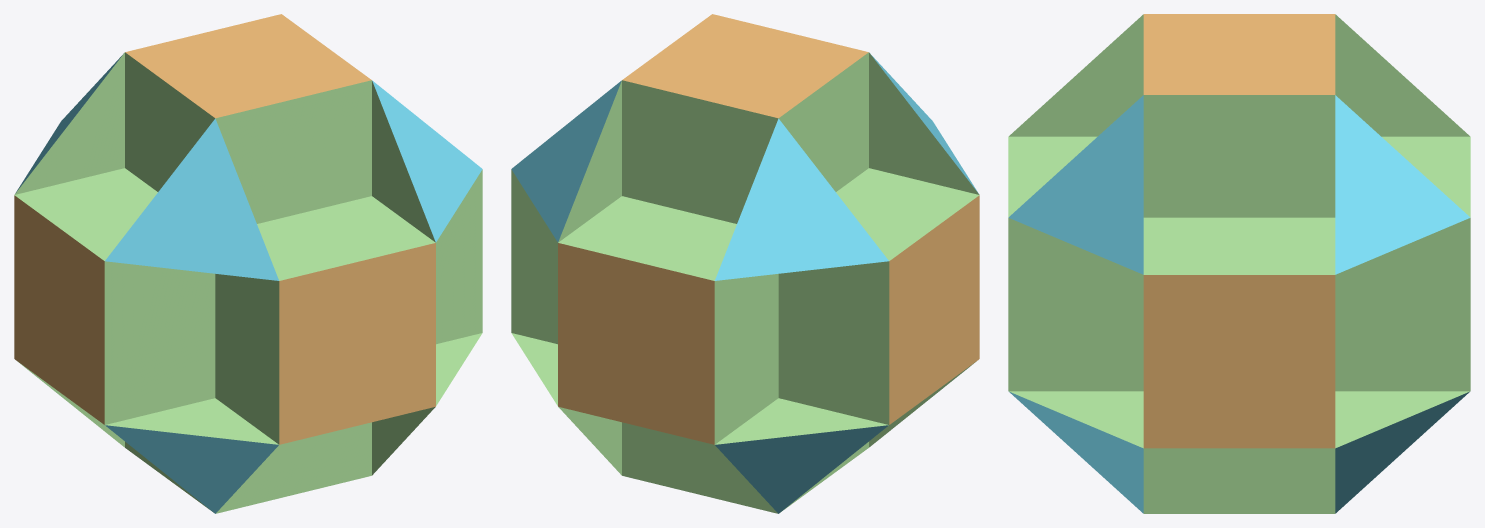
3 renders of one model, left to right at view 1: azimuth 30°, elevation 25°; view 2: azimuth 150°, elevation 25°; view 3: azimuth 270°, elevation 25°, orthographic. The views are drawn at different scales.
Parts seen in each view (by area): view 1: Small_Cubicuboctahedron_fixed; view 2: Small_Cubicuboctahedron_fixed; view 3: Small_Cubicuboctahedron_fixed.
Boxes of the visible parts, <box> form: Small_Cubicuboctahedron_fixed: <box>14,14,482,513</box>; Small_Cubicuboctahedron_fixed: <box>511,14,979,513</box>; Small_Cubicuboctahedron_fixed: <box>1008,14,1470,513</box>.
Bounding box in the file's own units: 4.83 × 4.83 × 4.83.
